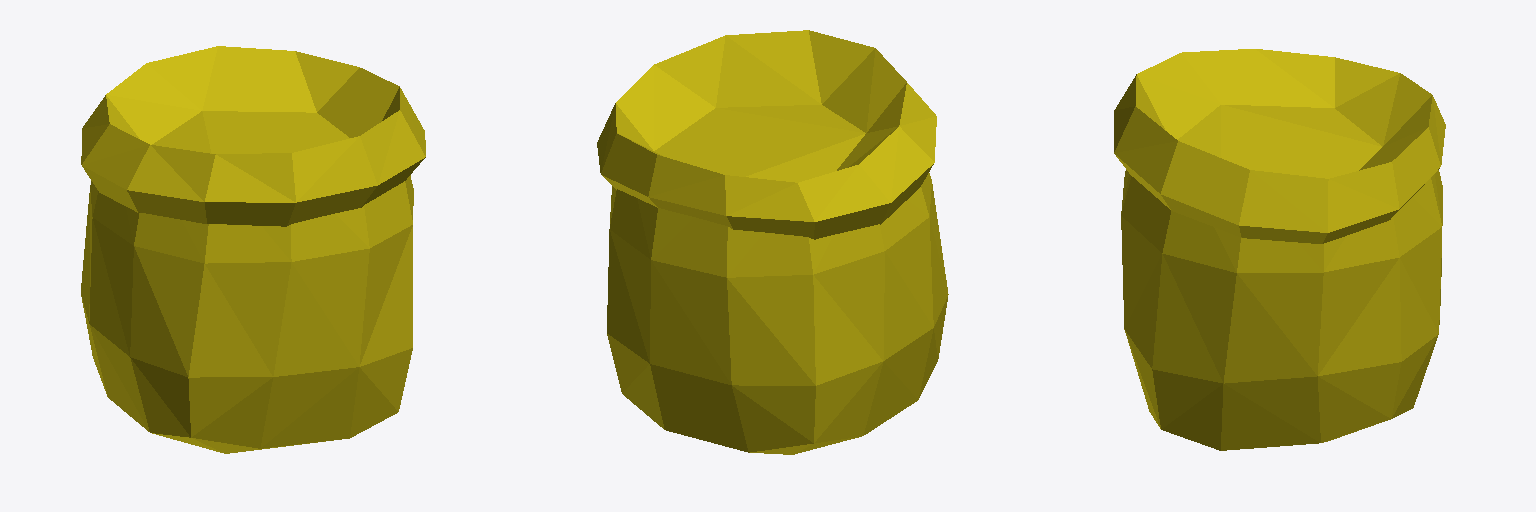
The model's file is bag_001.obj.
3 views of the same model, side by side, from view 1: azimuth 30°, elevation 25°; view 2: azimuth 150°, elevation 25°; view 3: azimuth 270°, elevation 25° (orthographic).
Parts seen in each view (by area): view 1: bag_001_bag_001.001; view 2: bag_001_bag_001.001; view 3: bag_001_bag_001.001.
Boxes of the visible parts, x1,y1,x2,y2 form: bag_001_bag_001.001: [81, 46, 425, 453]; bag_001_bag_001.001: [597, 30, 948, 454]; bag_001_bag_001.001: [1114, 49, 1445, 450].
Size of the model in its own units: 0.5379 by 0.5712 by 0.5199.